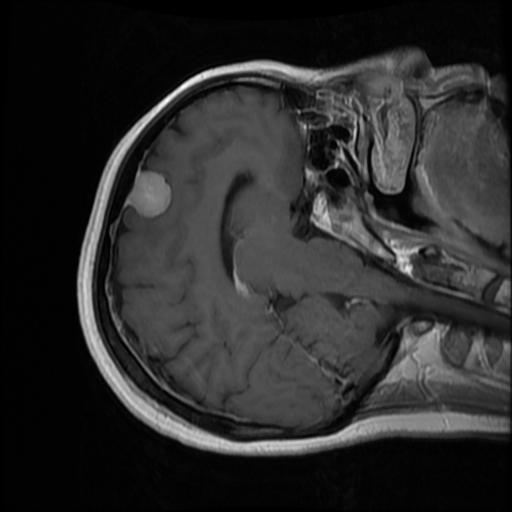meningioma: (124, 169, 171, 218)
